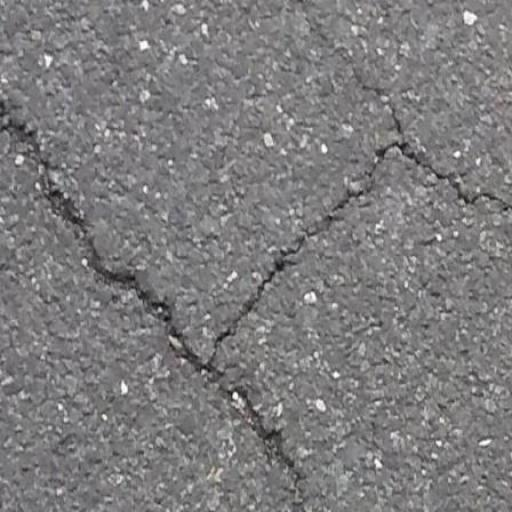spalling: (1, 99, 314, 487), (215, 128, 512, 347)
